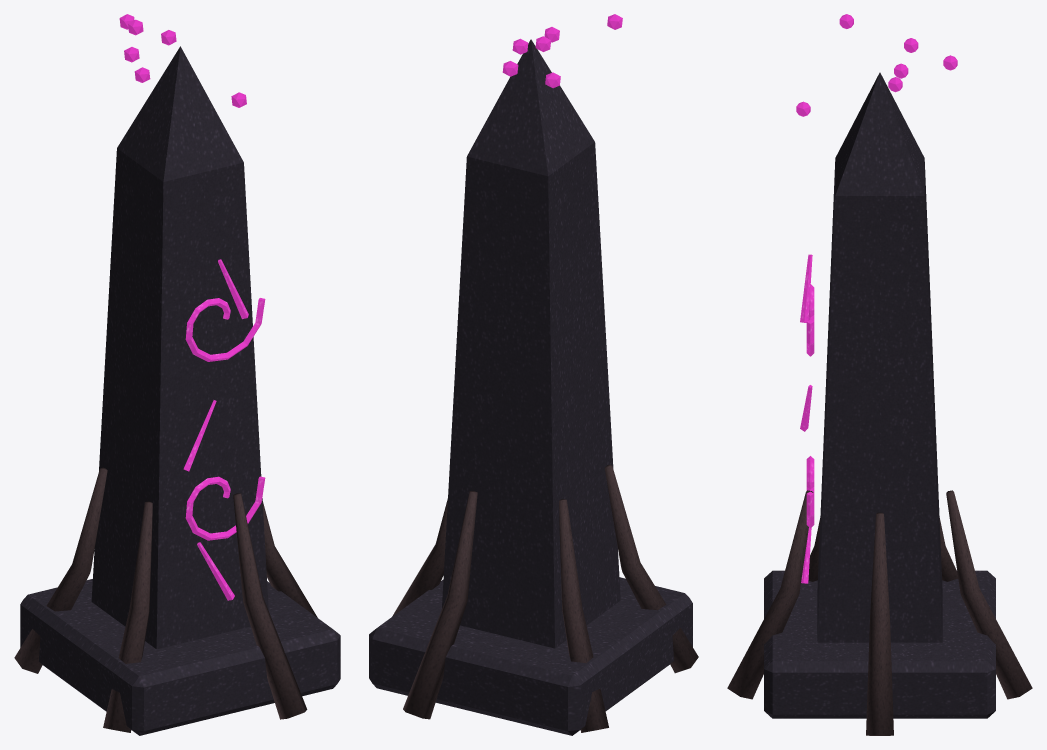
The model's file is obelisk.glb.
3 views of the same model, side by side, from view 1: azimuth 30°, elevation 25°; view 2: azimuth 150°, elevation 25°; view 3: azimuth 270°, elevation 25° (orthographic). The views are drawn at different scales.
Visible parts, largest first — view 1: obelisk_stone, obelisk_roots, obelisk_glow; view 2: obelisk_stone, obelisk_roots, obelisk_glow; view 3: obelisk_stone, obelisk_roots, obelisk_glow.
Boxes of the visible parts, left/top/right/bottom form: obelisk_stone: left=20, top=46, right=340, bottom=735; obelisk_roots: left=14, top=467, right=317, bottom=732; obelisk_glow: left=119, top=14, right=265, bottom=600; obelisk_stone: left=369, top=39, right=692, bottom=735; obelisk_roots: left=392, top=465, right=698, bottom=732; obelisk_glow: left=502, top=14, right=622, bottom=88; obelisk_stone: left=764, top=72, right=995, bottom=718; obelisk_roots: left=727, top=490, right=1032, bottom=735; obelisk_glow: left=796, top=14, right=957, bottom=583.
Size of what is drawn, in the model's own units: 1.38 by 3.32 by 1.45.
3 materials, 3 textured.
